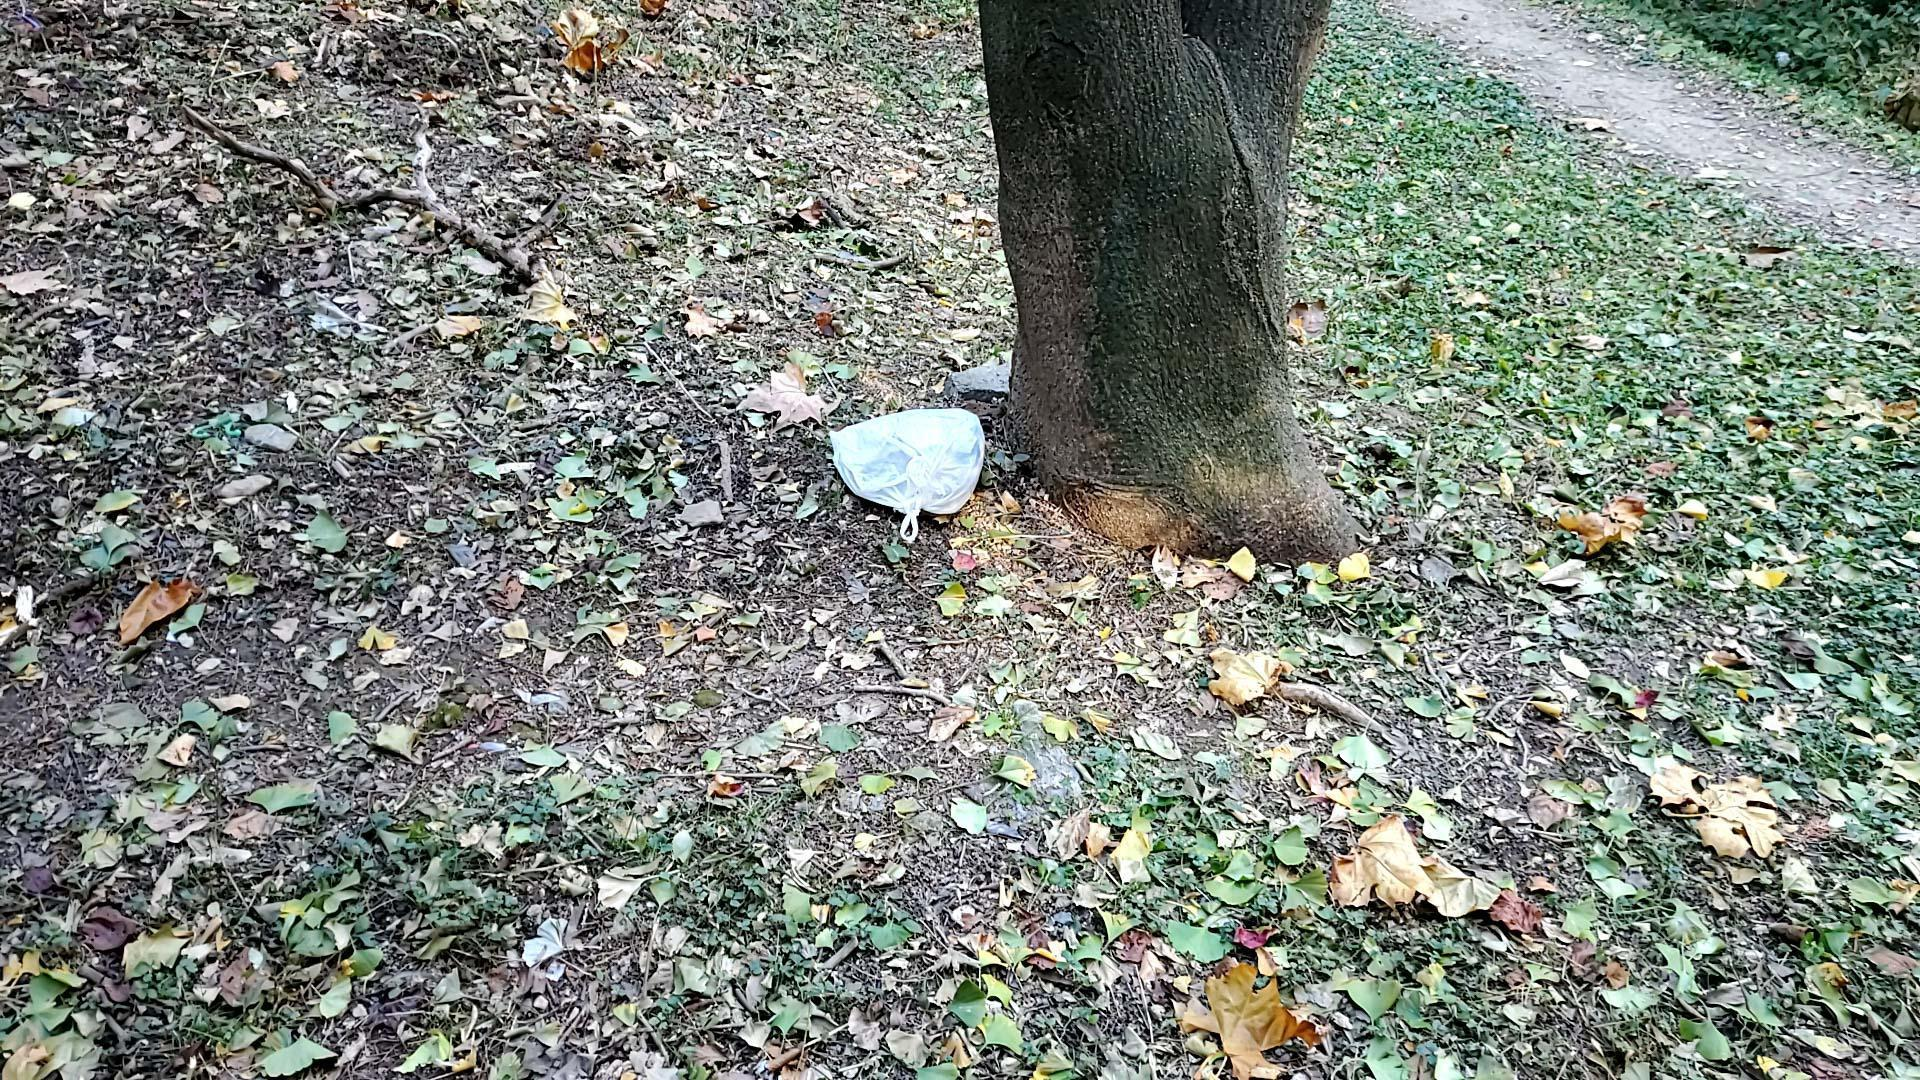white_bag: (811, 404, 993, 554)
